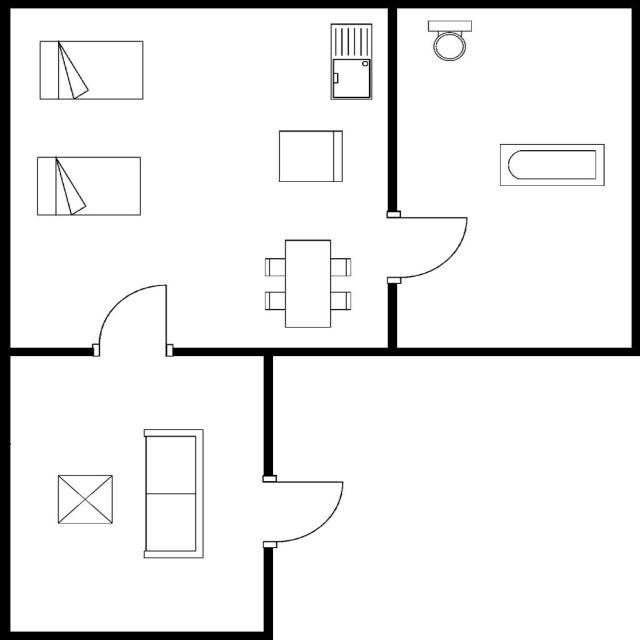bed: (36, 38, 146, 102), (34, 154, 144, 218)
coffee_table: (51, 472, 116, 526)
dining_table: (261, 237, 355, 329)
large_sink: (421, 18, 473, 64)
large_sofa: (139, 424, 207, 560)
sink: (326, 20, 375, 104)
small_sofa: (276, 127, 346, 183)
tub: (496, 141, 608, 189)
